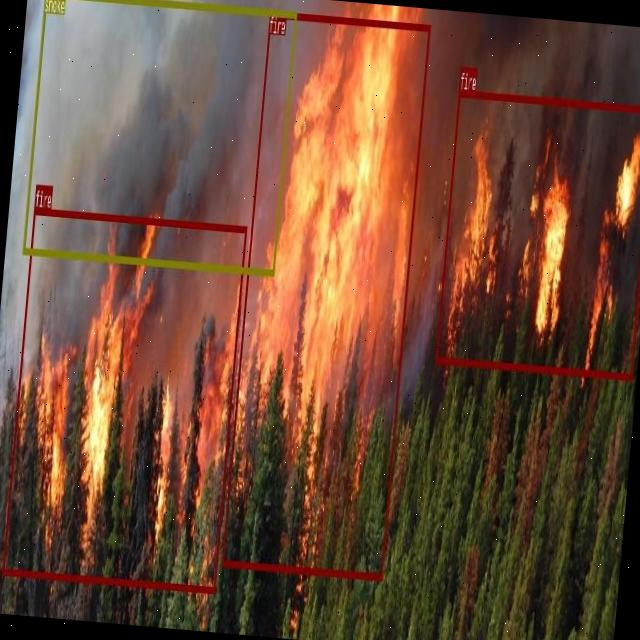fire: (221, 11, 430, 580), (2, 208, 246, 592), (435, 89, 640, 378)
smoke: (22, 0, 297, 275)
